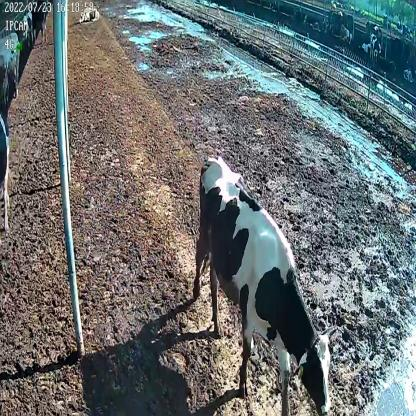cow: (193, 157, 340, 415)
